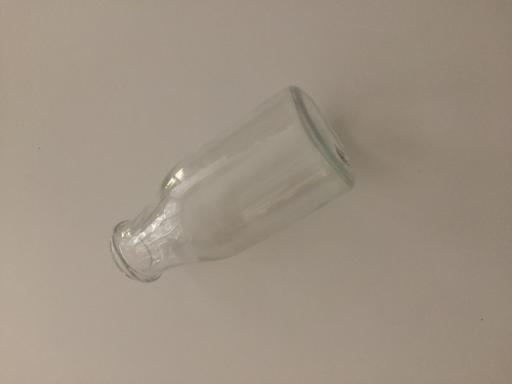botolkaca: (109, 86, 356, 283)
